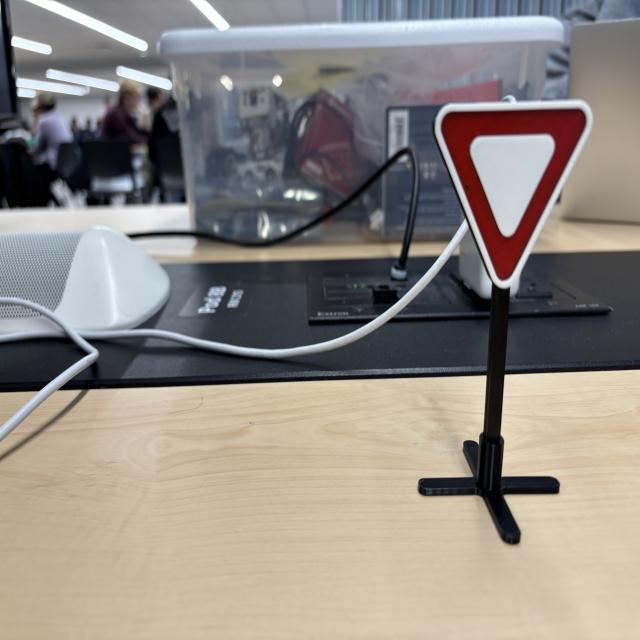sign_yield: (437, 104, 595, 290)
